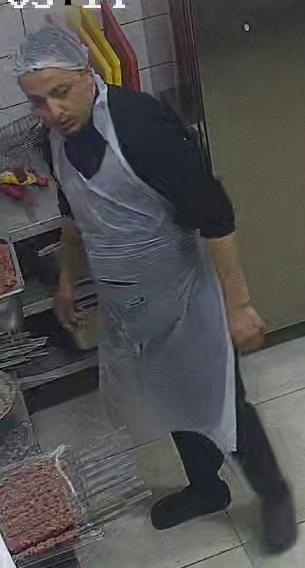apron: (12, 62, 220, 314)
